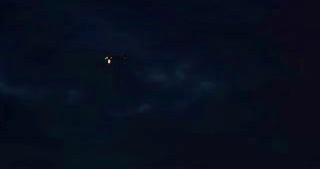Plane: (95, 52, 121, 67)
